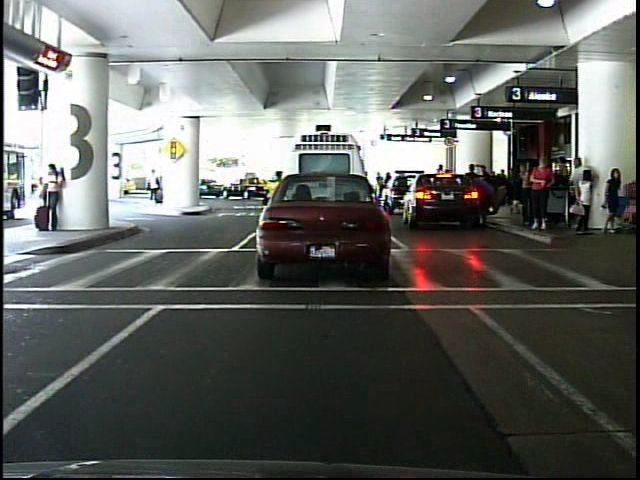person: (531, 152, 556, 234), (44, 160, 69, 233), (141, 163, 168, 207)
